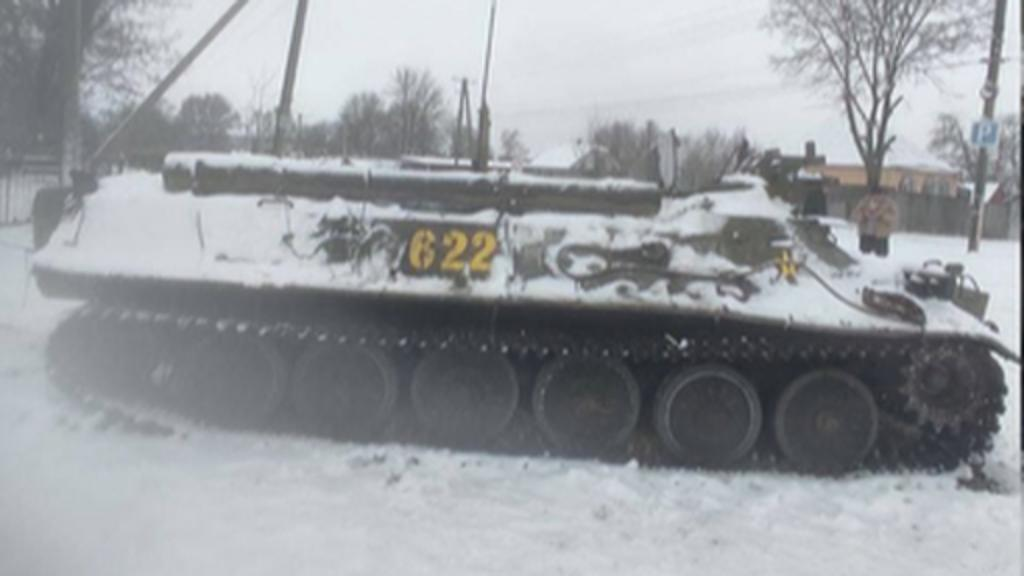APC-IFV: (38, 148, 1004, 454)
